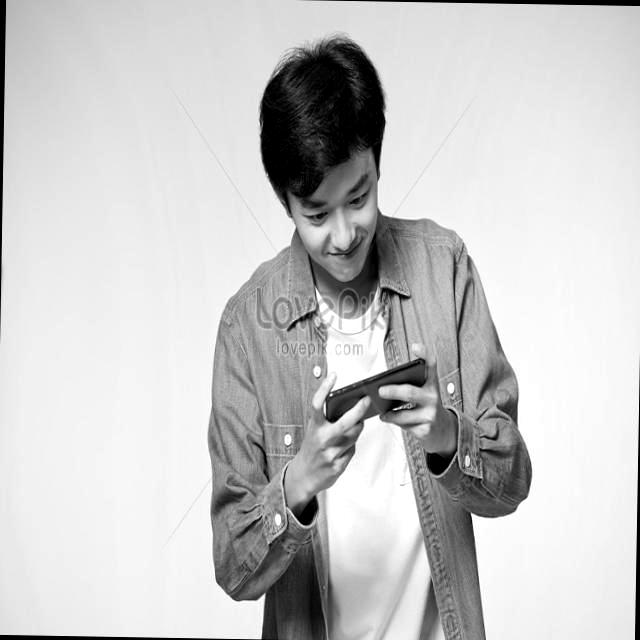phone: (324, 354, 426, 424)
